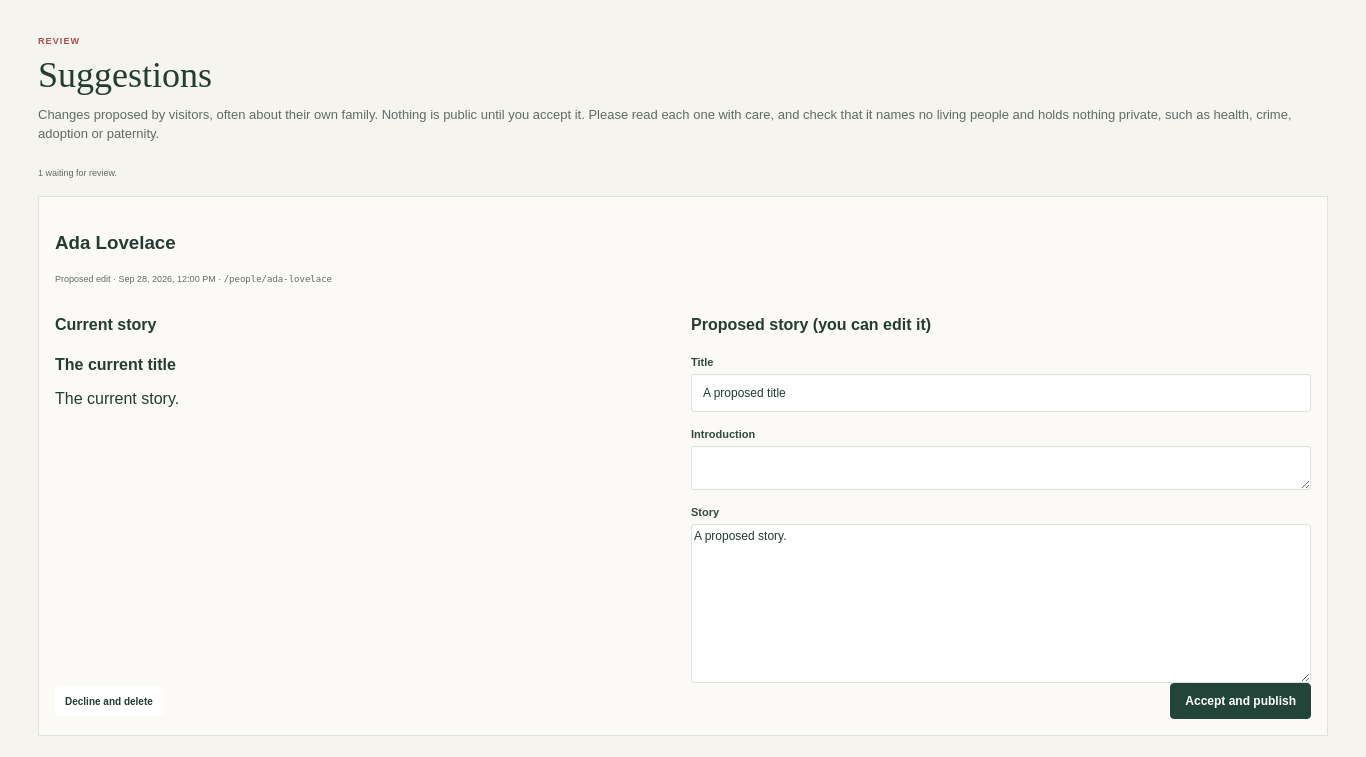
the review queue › compares the proposal with the current story and publishes the editor's version
Check: the text "The current story." is shown, box [55, 390, 179, 407]
Type " Tidied." into the text box labelled "Story" at {"x": 1001, "y": 604}, box [691, 524, 1311, 683]
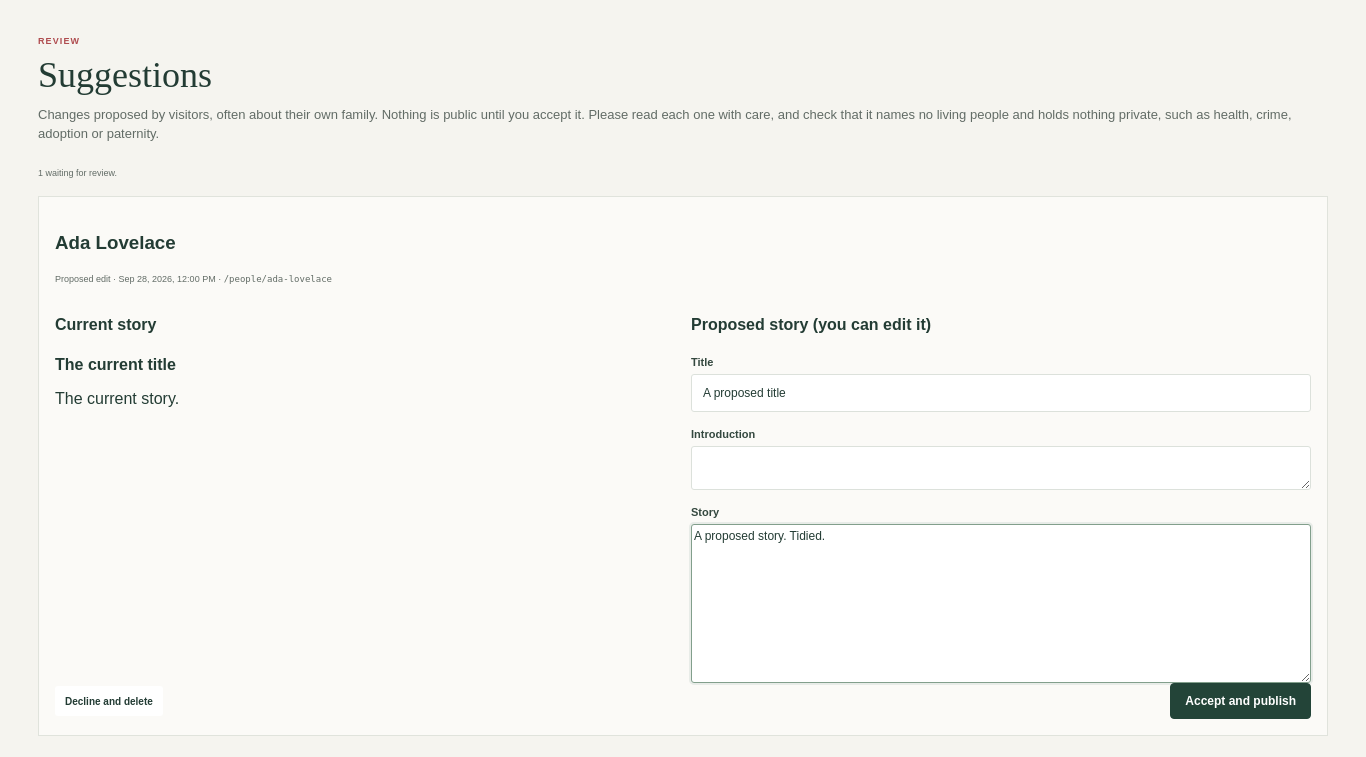
Type "!" into the field labelled "Title" at {"x": 1001, "y": 393}, box [691, 374, 1311, 412]
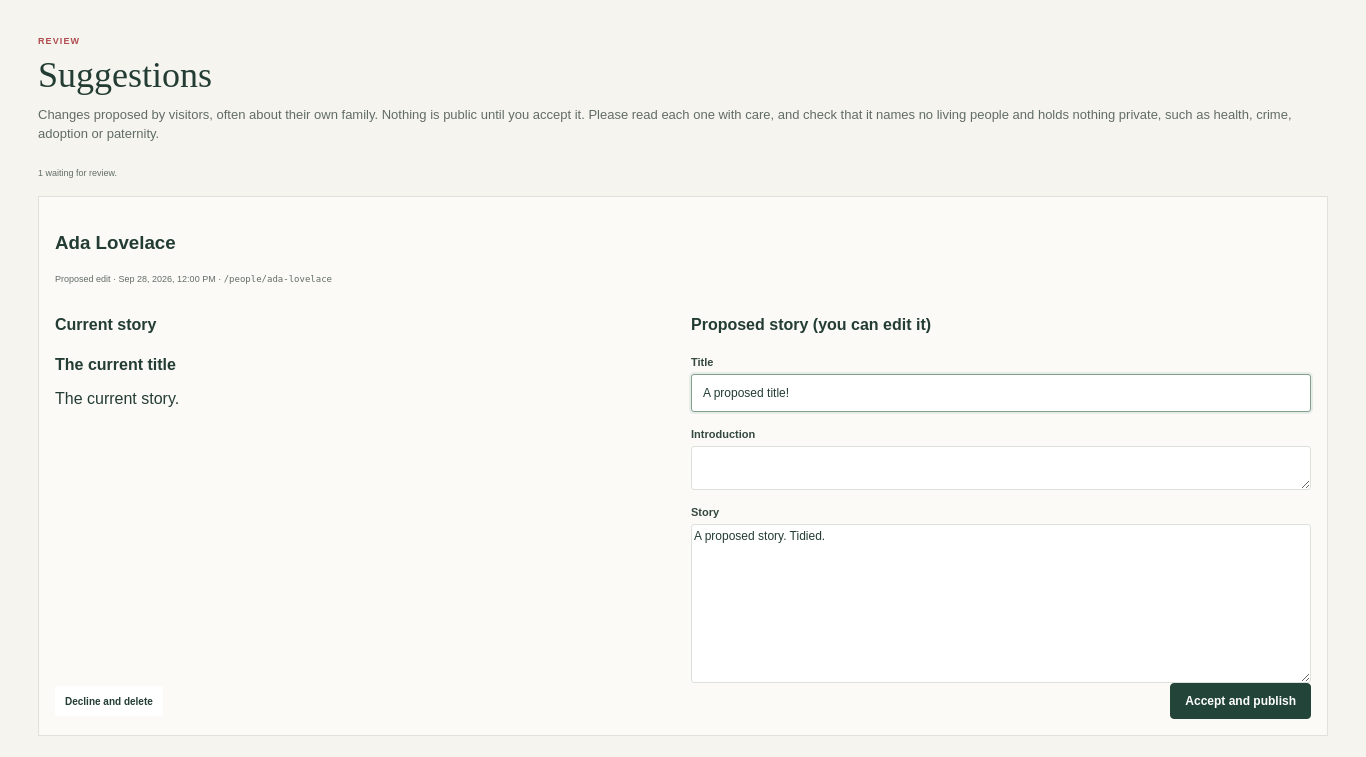
Type "Intro" into the text box labelled "Introduction" at {"x": 1001, "y": 468}, box [691, 446, 1311, 490]
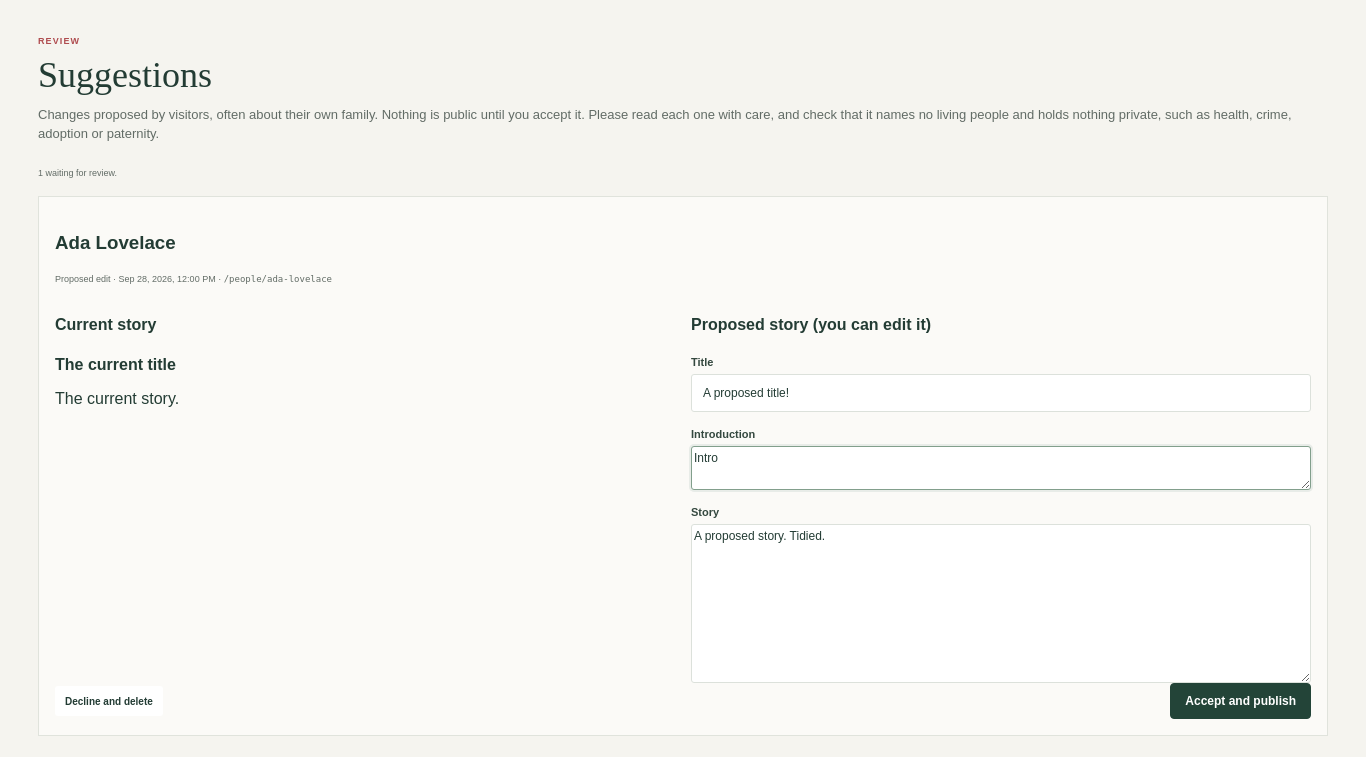
Click the button "Accept and publish" at {"x": 1241, "y": 701}, box [1170, 683, 1311, 719]
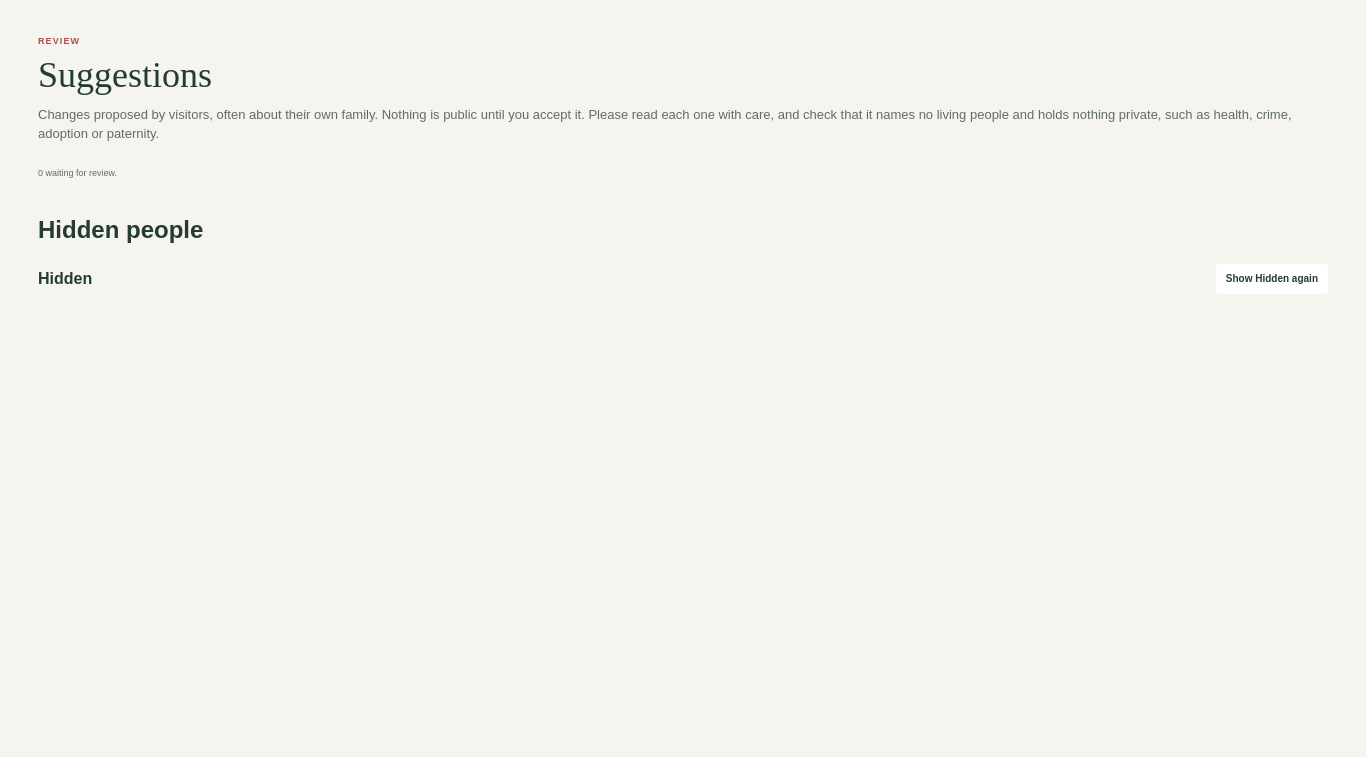
Check: the text "0 waiting for review." is shown, box [38, 168, 117, 178]
Check: the heading labelled "story" is gone
